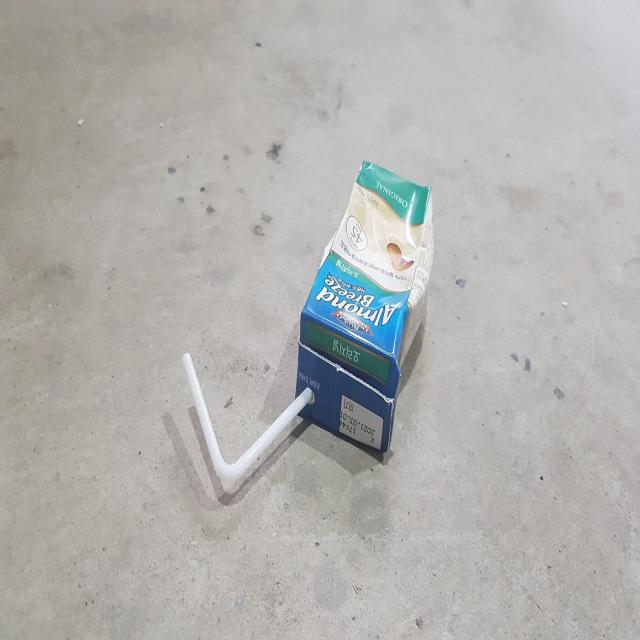paperpack: (296, 160, 435, 452)
